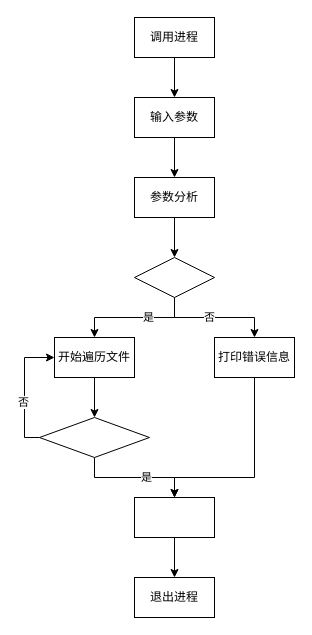
Some shapes in this 312 by 635 pixel diagram are drawn without their labels. The centre of each missing label's shape, as x and y in pixels:
打印结果: pixel 174 517
是否完成遍历？: pixel 94 437
输入正确？: pixel 174 277
